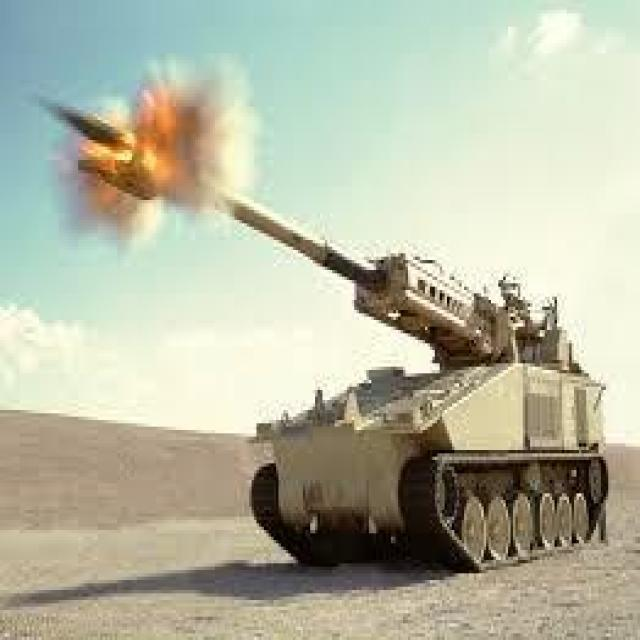MIL_MBT: (49, 52, 630, 612)
